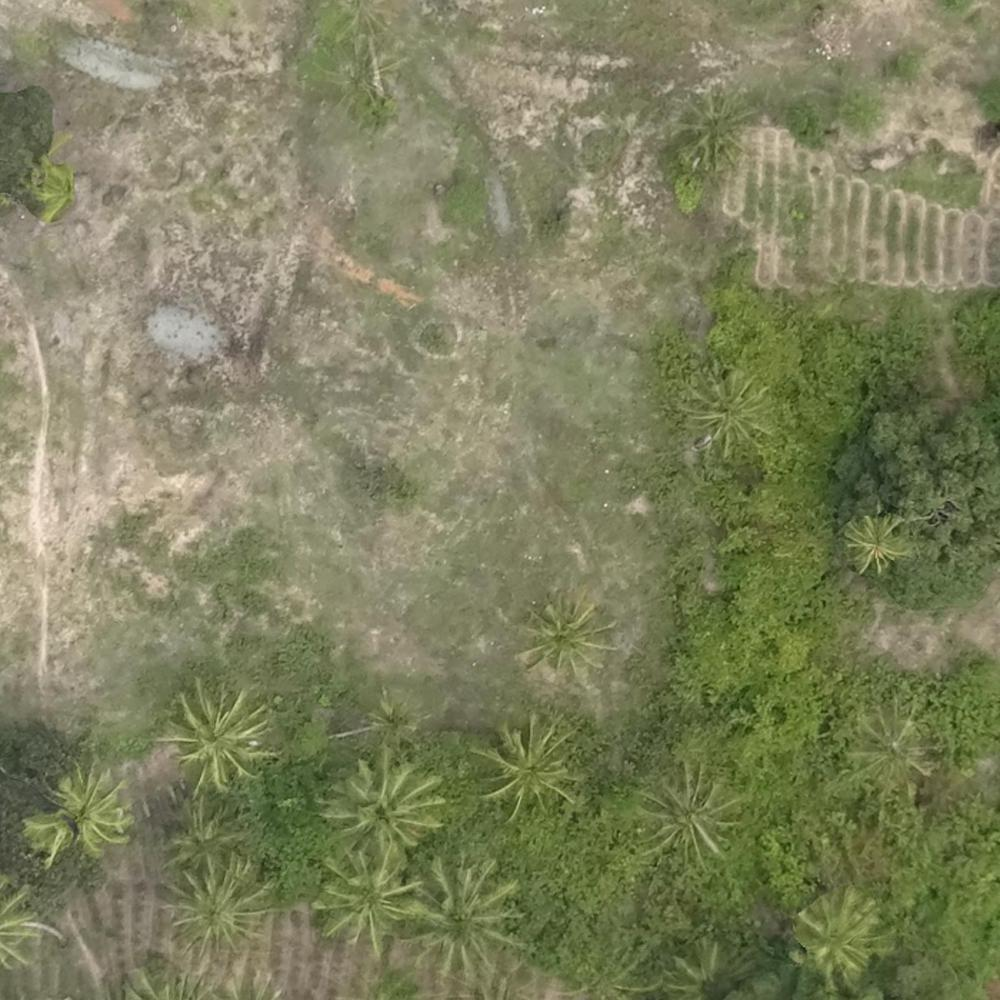Palm: (414, 860, 524, 973), (328, 757, 438, 854), (167, 685, 269, 783), (478, 713, 579, 809), (317, 855, 419, 949), (22, 772, 132, 859), (642, 762, 735, 864), (168, 862, 260, 955), (521, 594, 612, 681), (849, 705, 933, 788), (685, 369, 771, 450), (796, 895, 876, 976), (675, 91, 751, 166), (166, 798, 245, 868), (847, 513, 905, 576)
